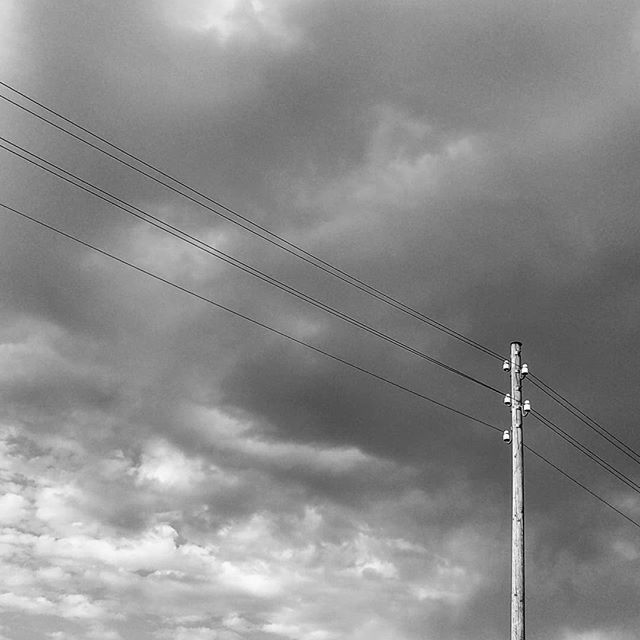power pole: (471, 314, 556, 640)
sky: (1, 1, 634, 636)
